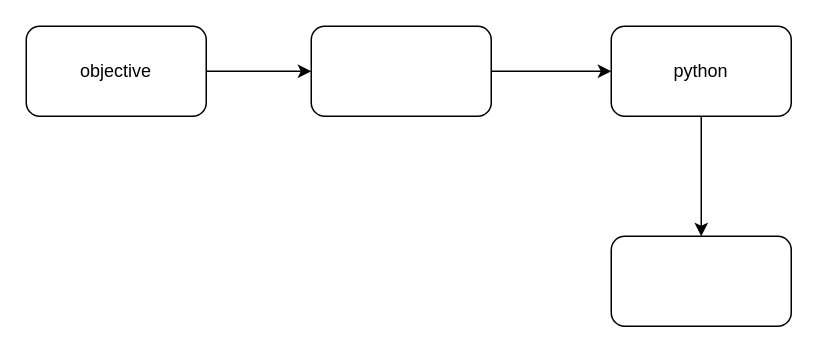
Image size: 818x353. Some labels were removed from this diagram. The shapes that lost their labels are listed below. From the top down, each one's centre as x and y in pixels, then its label:
At pixel 400 70: "change image using the websockets in obs".
At pixel 700 280: "websocket library!".
